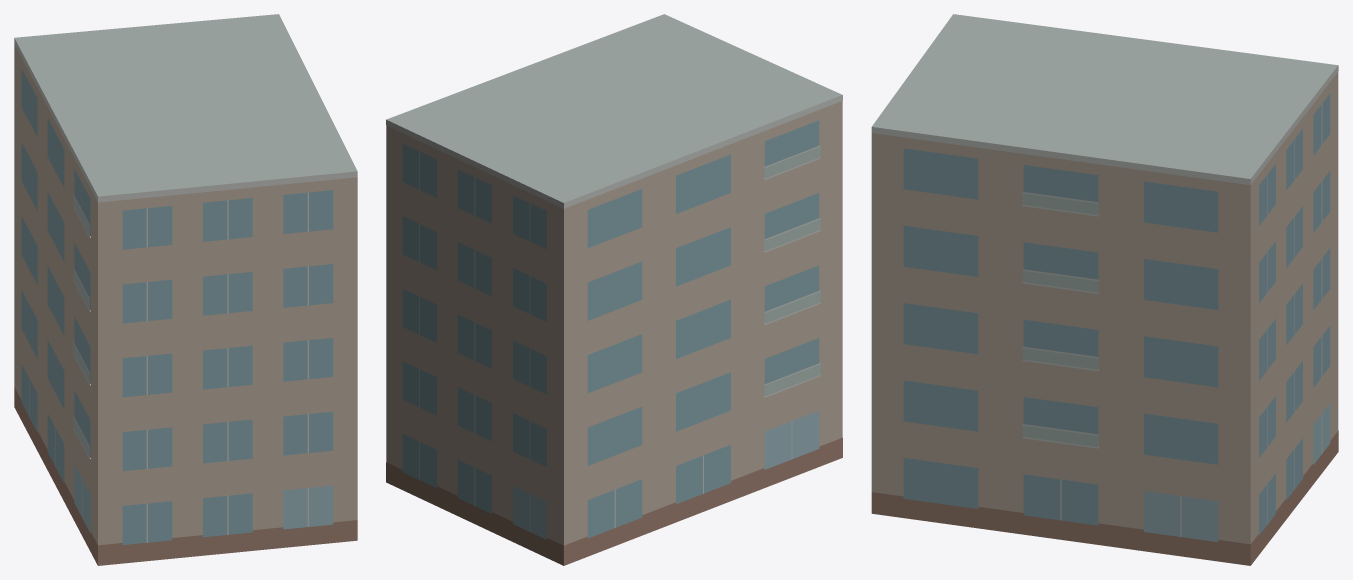
File: survey-upis-32639043.glb
3 renders of one model, left to right at view 1: azimuth 30°, elevation 25°; view 2: azimuth 150°, elevation 25°; view 3: azimuth 270°, elevation 25°, orthographic. The views are drawn at different scales.
Parts seen in each view (by area): view 1: survey-upis-32639043.tmp; view 2: survey-upis-32639043.tmp; view 3: survey-upis-32639043.tmp.
Part boxes in pixels (left/top/right/bottom): survey-upis-32639043.tmp: left=14, top=14, right=357, bottom=565; survey-upis-32639043.tmp: left=386, top=14, right=842, bottom=565; survey-upis-32639043.tmp: left=871, top=14, right=1338, bottom=565.
Size of the model in its own units: 13.97 by 15.25 by 16.69.
